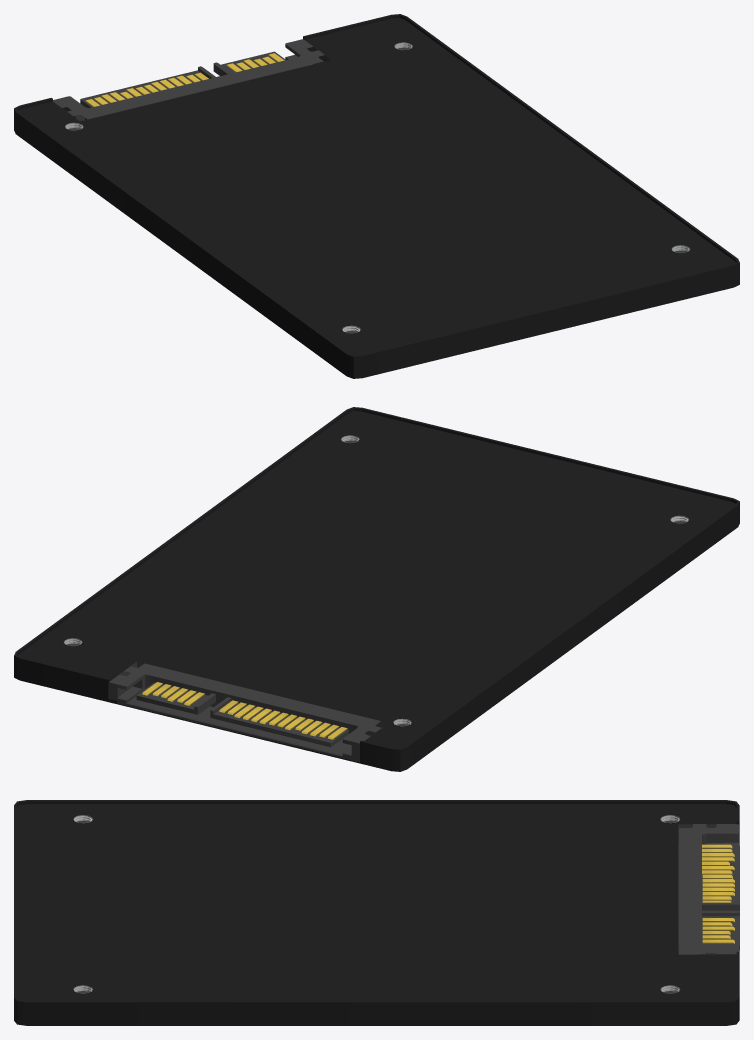
File: ssd_sata (polos).glb
3 views of the same model, one above another, from view 1: azimuth 30°, elevation 25°; view 2: azimuth 150°, elevation 25°; view 3: azimuth 270°, elevation 25° (orthographic). The views are drawn at different scales.
Parts seen in each view (by area): view 1: Plane003__0, Box047__0, ssd_lp; view 2: Plane003__0, Box047__0, ssd_lp; view 3: Plane003__0, Box047__0, ssd_lp.
Part boxes in pixels (bbox=[...]): Plane003__0: bbox=[18, 18, 735, 355]; Box047__0: bbox=[14, 14, 739, 378]; ssd_lp: bbox=[53, 39, 324, 121]; Plane003__0: bbox=[18, 411, 735, 748]; Box047__0: bbox=[14, 407, 739, 771]; ssd_lp: bbox=[109, 663, 381, 762]; Plane003__0: bbox=[17, 804, 736, 1001]; Box047__0: bbox=[14, 800, 739, 1025]; ssd_lp: bbox=[679, 824, 739, 954].
Size of the model in its own units: 1.7 by 0.0922 by 2.58.
Materials: 1 (1 with a texture image).
